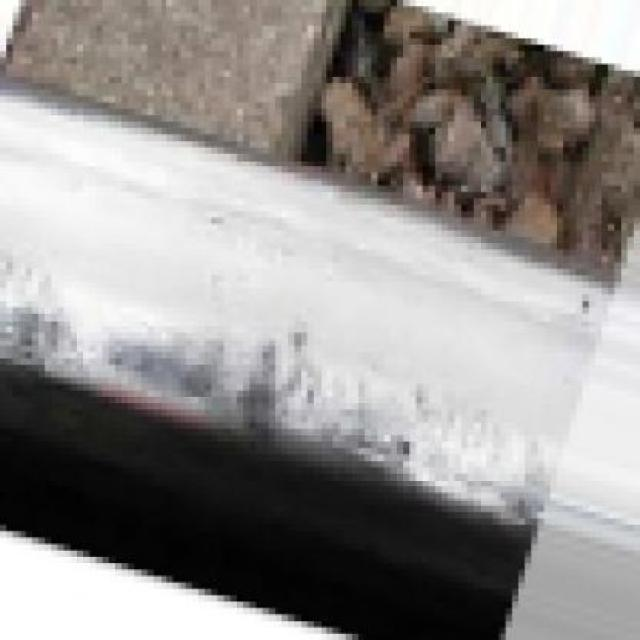defective: (0, 124, 565, 632)
